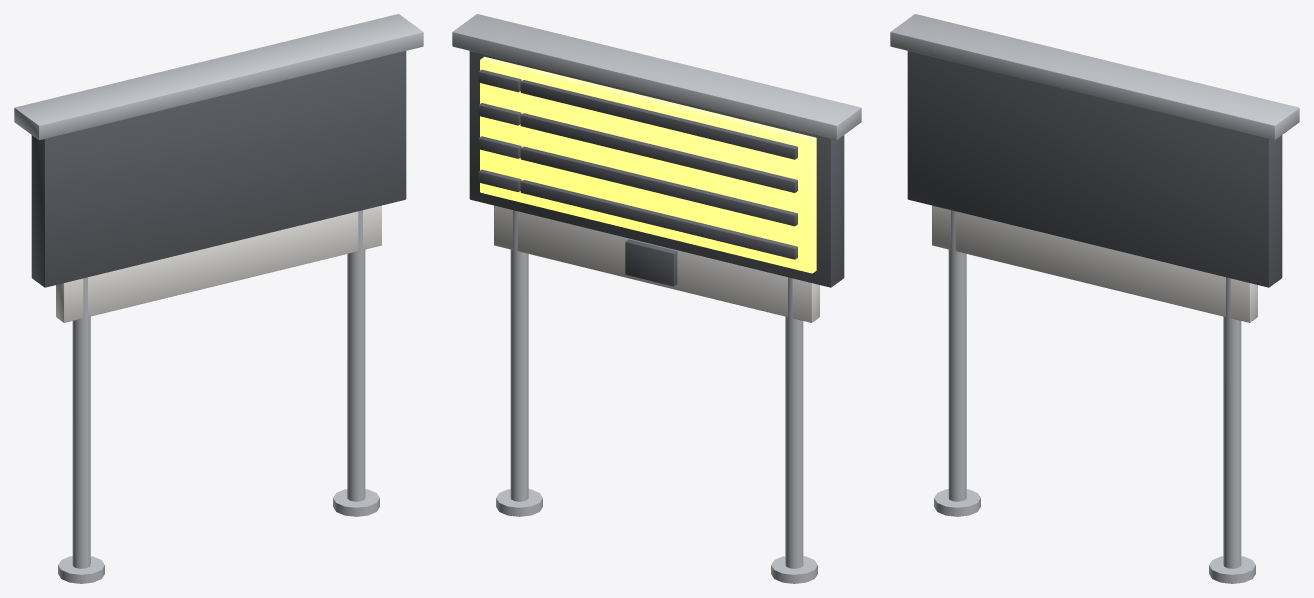
Rendered from th41_anzeigetafel.glb.
3 views of the same model, side by side, from view 1: azimuth 30°, elevation 25°; view 2: azimuth 150°, elevation 25°; view 3: azimuth 330°, elevation 25° (orthographic).
Visible parts, largest first — view 1: Cube, Cube.010, Cube.011, Cylinder, Cylinder.002, Cylinder.001, Cylinder.003; view 2: Cube.001, Cube.010, Cube.011, Cube, Cylinder, Cylinder.002, Cube.002, Cube.004, Cube.008, Cube.006, Cube.012, Cylinder.001 (+5 smaller); view 3: Cube, Cube.010, Cube.011, Cylinder.002, Cylinder, Cylinder.001, Cylinder.003.
Part boxes in pixels (bbox=[...]): Cube: bbox=[31, 51, 406, 287]; Cube.010: bbox=[14, 14, 423, 140]; Cube.011: bbox=[56, 205, 381, 322]; Cylinder: bbox=[72, 277, 90, 568]; Cylinder.002: bbox=[347, 210, 365, 501]; Cylinder.001: bbox=[58, 556, 104, 583]; Cylinder.003: bbox=[333, 489, 379, 516]; Cube.001: bbox=[480, 56, 816, 273]; Cube.010: bbox=[452, 14, 861, 140]; Cube.011: bbox=[494, 205, 819, 322]; Cube: bbox=[469, 51, 844, 287]; Cylinder: bbox=[785, 277, 803, 568]; Cylinder.002: bbox=[510, 210, 528, 501]; Cube.002: bbox=[520, 80, 797, 159]; Cube.004: bbox=[520, 113, 797, 192]; Cube.008: bbox=[520, 180, 797, 259]; Cube.006: bbox=[520, 146, 797, 226]; Cube.012: bbox=[625, 239, 677, 286]; Cylinder.001: bbox=[771, 556, 817, 583]; Cube: bbox=[907, 51, 1282, 287]; Cube.010: bbox=[890, 14, 1299, 140]; Cube.011: bbox=[932, 205, 1257, 322]; Cylinder.002: bbox=[1223, 277, 1241, 568]; Cylinder: bbox=[948, 210, 966, 501]; Cylinder.001: bbox=[934, 489, 980, 516]; Cylinder.003: bbox=[1209, 556, 1255, 583].
Bounding box in the file's own units: 2.66 × 3.11 × 0.315.
